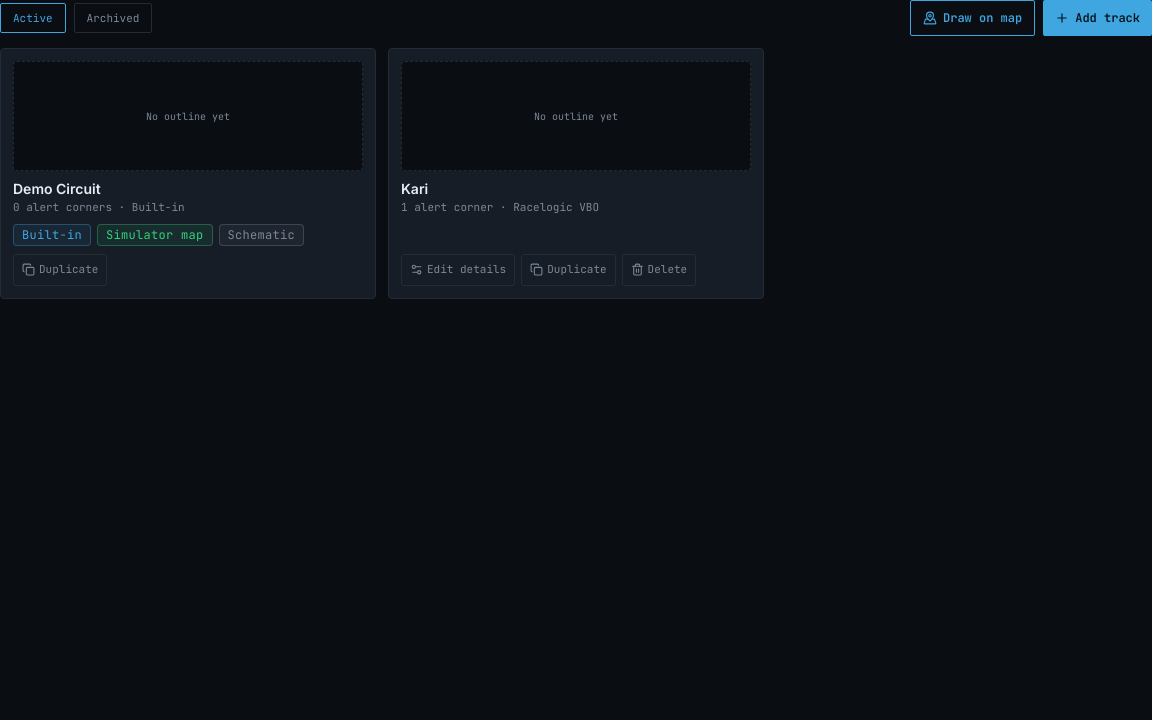
Test: MapsBrowser › renames a map and changes its kart class (Admin), then reloads
Click the button with test id "edit-details-Kari" at (458, 270), box x1=401 y1=254 x2=515 y2=286
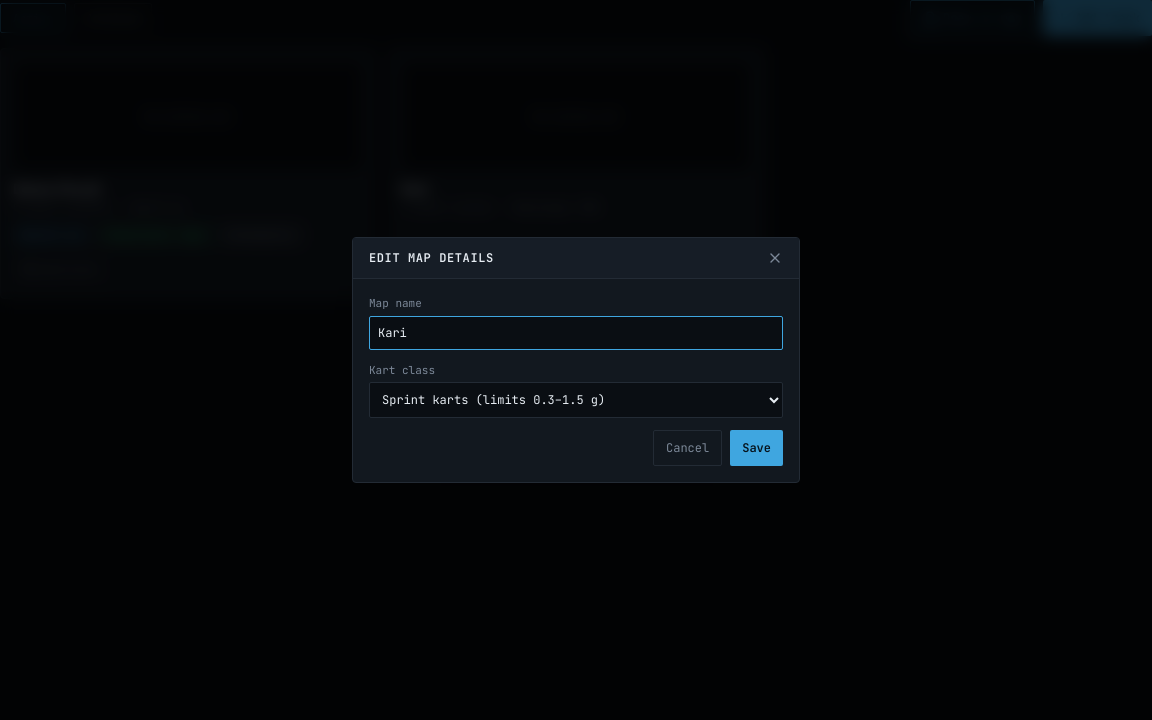
Replace the text in the field with test id "map-name-input" with "  Kari Speedway " at (576, 332), box x1=369 y1=316 x2=783 y2=350
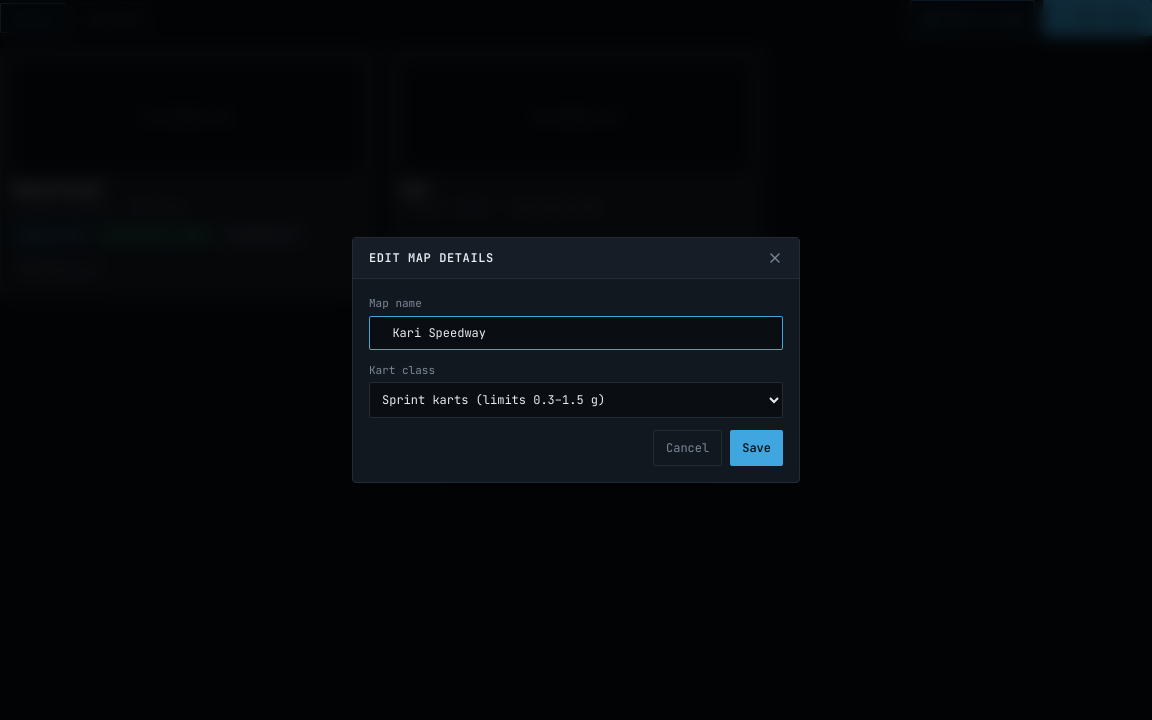
Select "Rental karts (limits 0.3–0.8 g)" in the dropdown with test id "map-kart-class" at (576, 400), box x1=369 y1=382 x2=783 y2=418
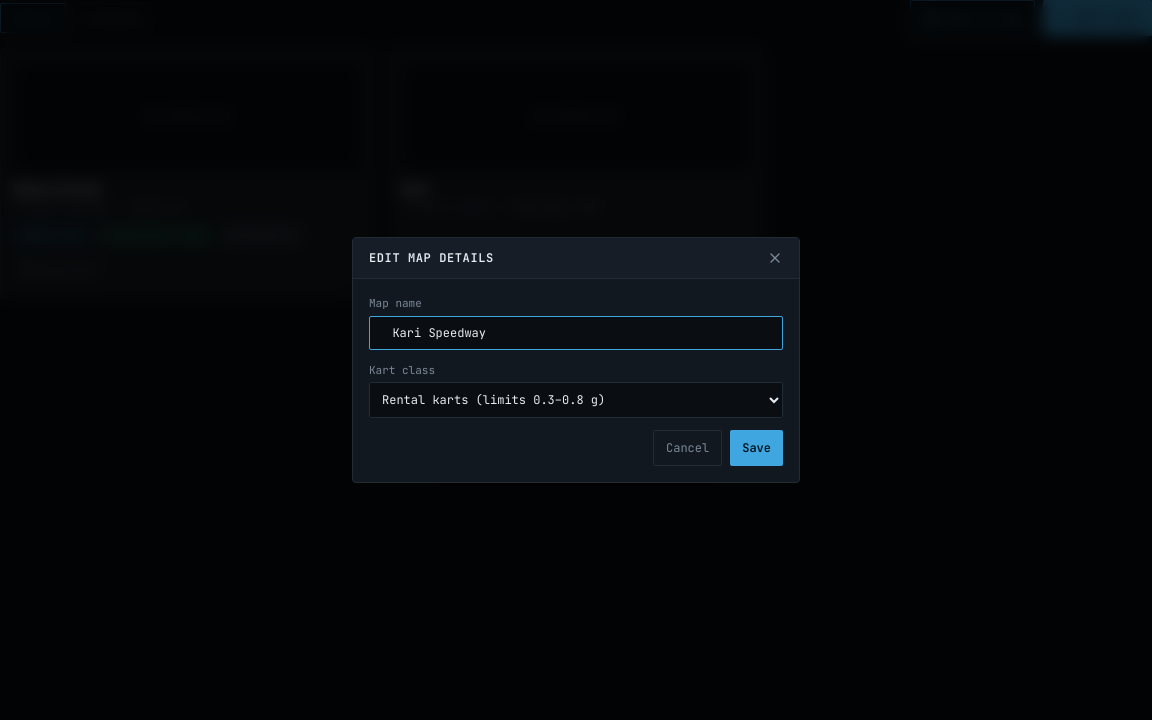
Click the button with test id "map-name-submit" at (757, 448), box x1=730 y1=430 x2=783 y2=466
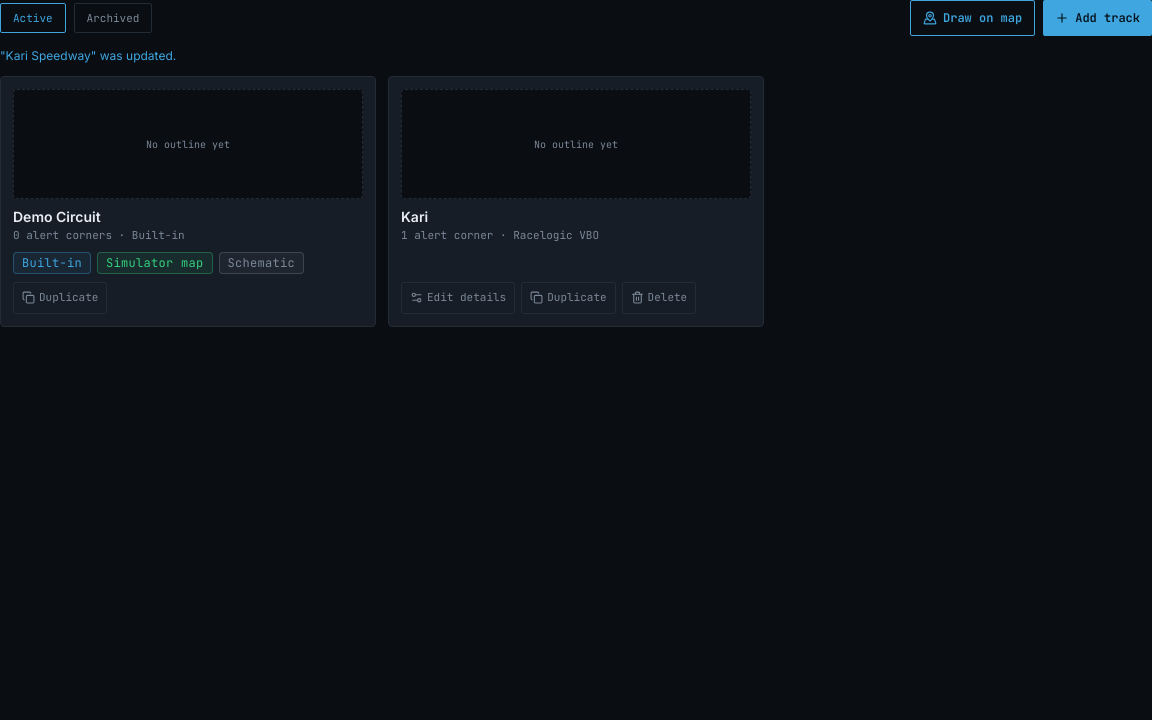
Now the text with test id "maps-notice" shows "Kari Speedway", box x1=0 y1=48 x2=176 y2=63
Now the form with test id "map-name-dialog" is gone
